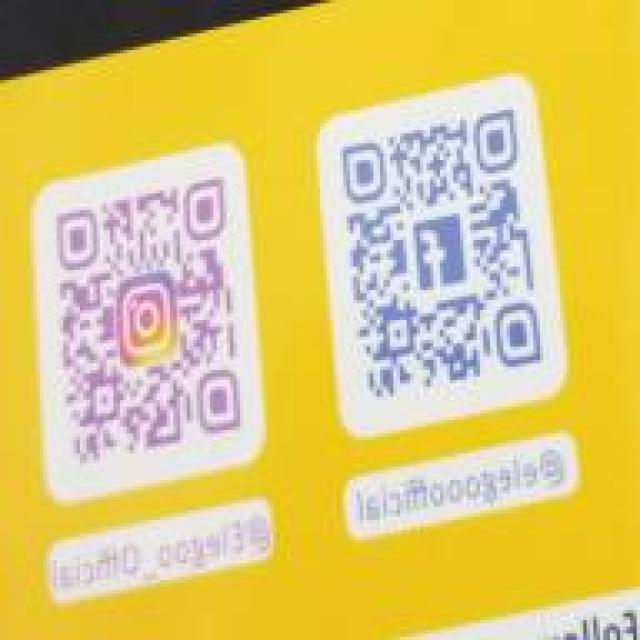QR_CODE: (333, 87, 550, 418), (45, 160, 253, 480)
